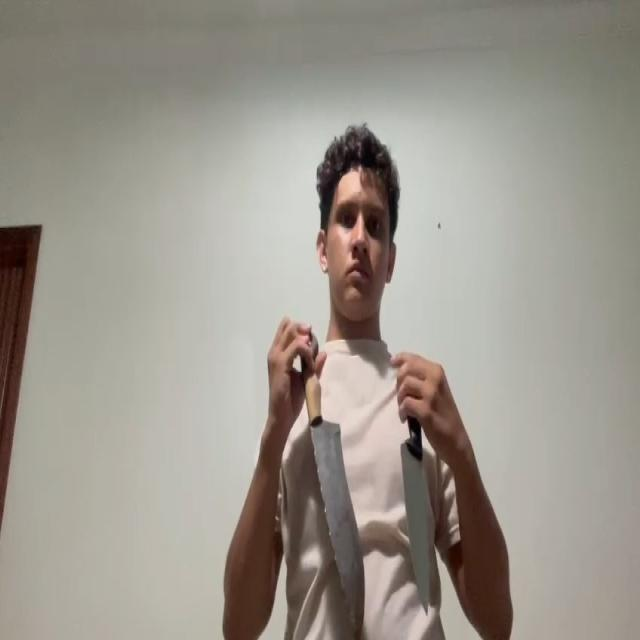knife: (311, 412, 367, 638), (400, 438, 432, 613)
